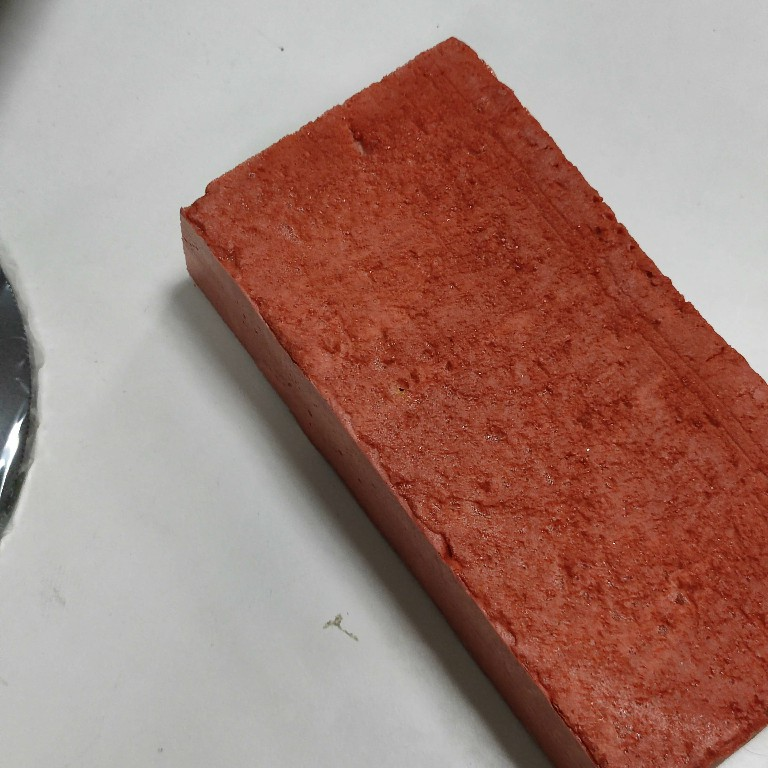brick: (177, 35, 768, 768)
